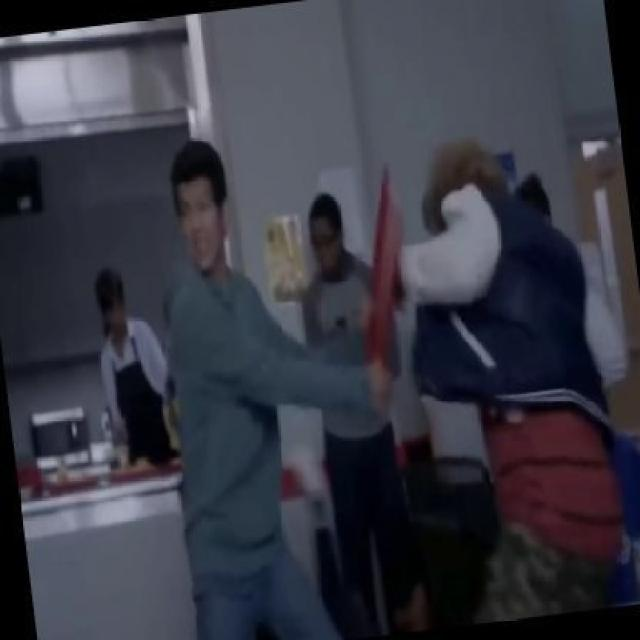fight: (136, 134, 638, 638)
